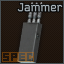Signal Jammer: (0, 0, 64, 64)
